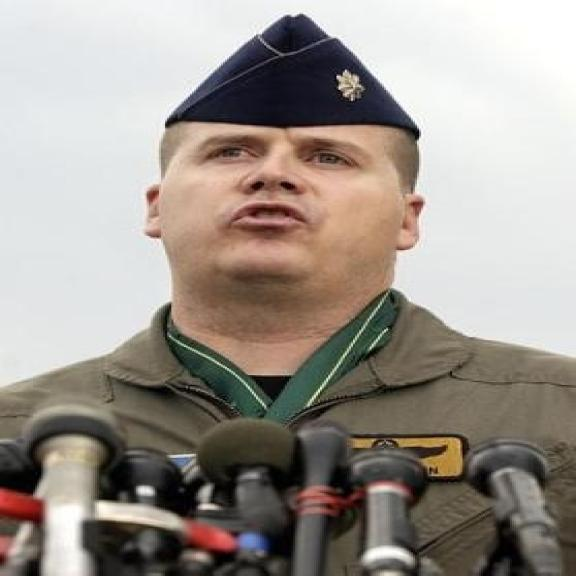face: (140, 84, 428, 292)
